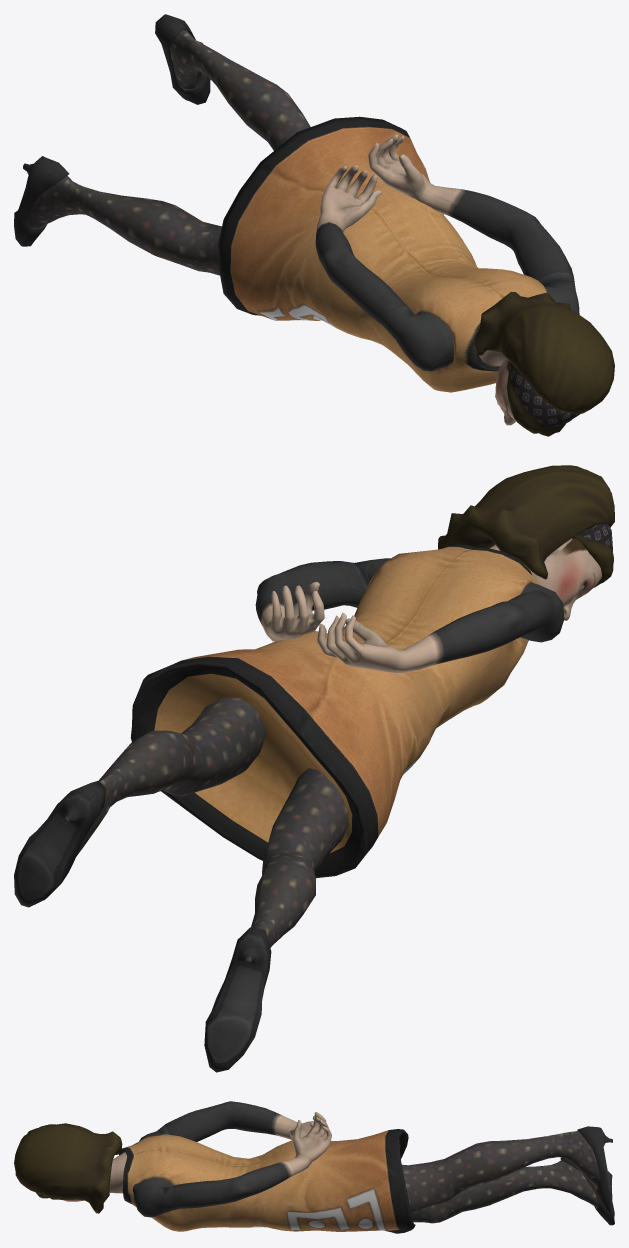
File: dest_nt_nuked_female_01_d0_LOD0.obj
The picture shows the model from 3 angles, top to bottom: view 1: azimuth 30°, elevation 25°; view 2: azimuth 150°, elevation 25°; view 3: azimuth 270°, elevation 25°; orthographic projection. The views are drawn at different scales.
Parts seen in each view (by area): view 1: mtl_nt_2020_manne_fem01_dress1, mtl_nt_2020_manne_fem01_head1, mtl_nt_2020_manne_fem01_hair1; view 2: mtl_nt_2020_manne_fem01_dress1, mtl_nt_2020_manne_fem01_head1, mtl_nt_2020_manne_fem01_hair1; view 3: mtl_nt_2020_manne_fem01_dress1, mtl_nt_2020_manne_fem01_head1, mtl_nt_2020_manne_fem01_hair1.
Part boxes in pixels (x1,y1,x2,y2): mtl_nt_2020_manne_fem01_dress1: (14, 14, 546, 392); mtl_nt_2020_manne_fem01_head1: (28, 30, 579, 425); mtl_nt_2020_manne_fem01_hair1: (474, 291, 614, 436); mtl_nt_2020_manne_fem01_dress1: (14, 544, 538, 1072); mtl_nt_2020_manne_fem01_head1: (76, 538, 601, 947); mtl_nt_2020_manne_fem01_hair1: (438, 465, 614, 587); mtl_nt_2020_manne_fem01_dress1: (119, 1126, 614, 1233); mtl_nt_2020_manne_fem01_head1: (60, 1101, 599, 1223); mtl_nt_2020_manne_fem01_hair1: (14, 1123, 122, 1213).
Bounding box in the file's own units: 62.69 × 52.63 × 183.
